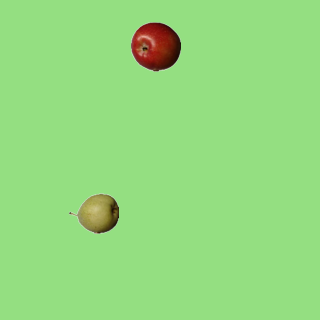Apple Braeburn: (130, 21, 180, 71)
Pear: (68, 188, 118, 238)
